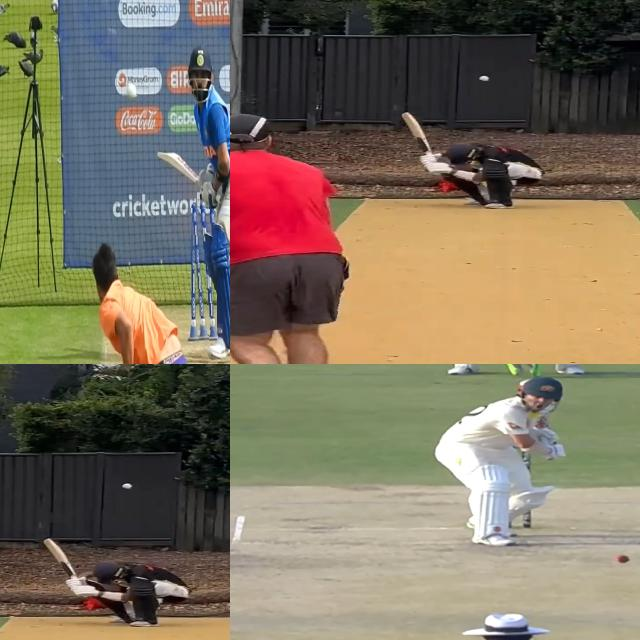Cricket ball: (124, 80, 138, 102), (614, 554, 630, 564), (479, 76, 490, 82), (122, 483, 132, 489)
Stumps: (189, 202, 217, 344)
